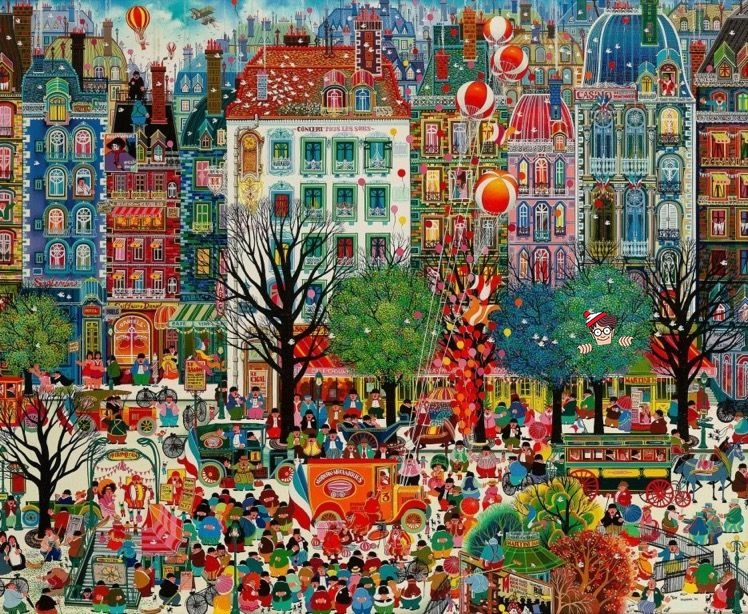waldo: (576, 311, 634, 354)
